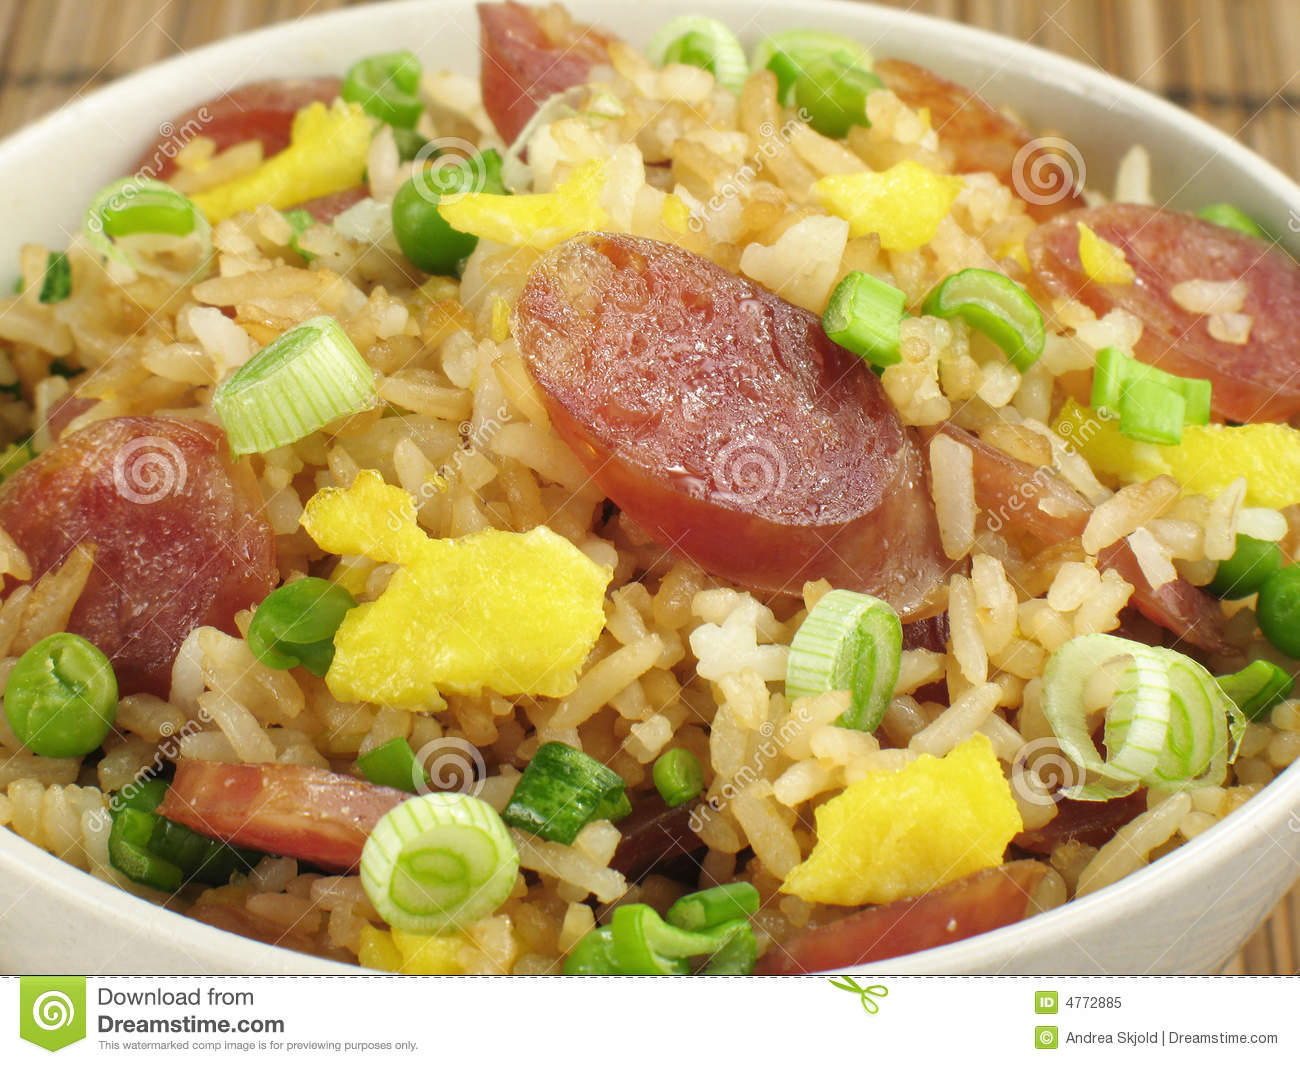chinese_sausage: (527, 246, 886, 572), (2, 405, 287, 657), (1039, 199, 1300, 426), (869, 48, 1084, 214), (128, 71, 376, 189), (164, 750, 404, 857), (475, 1, 625, 153)
